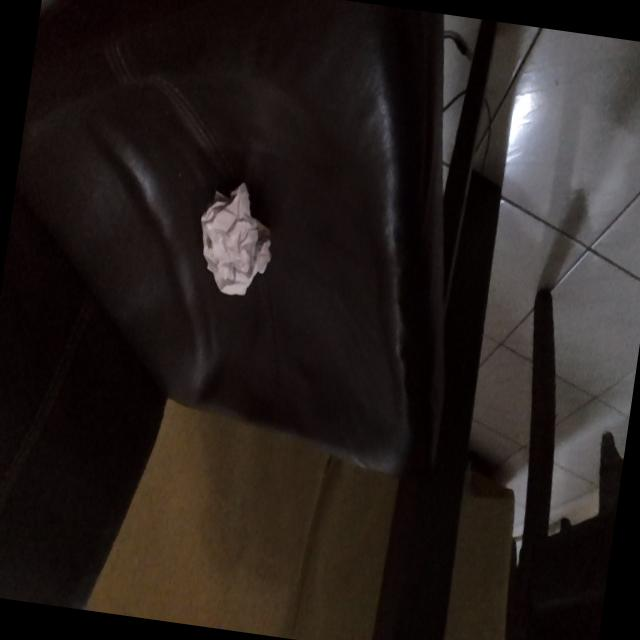crumpled_paper: (190, 172, 284, 306)
